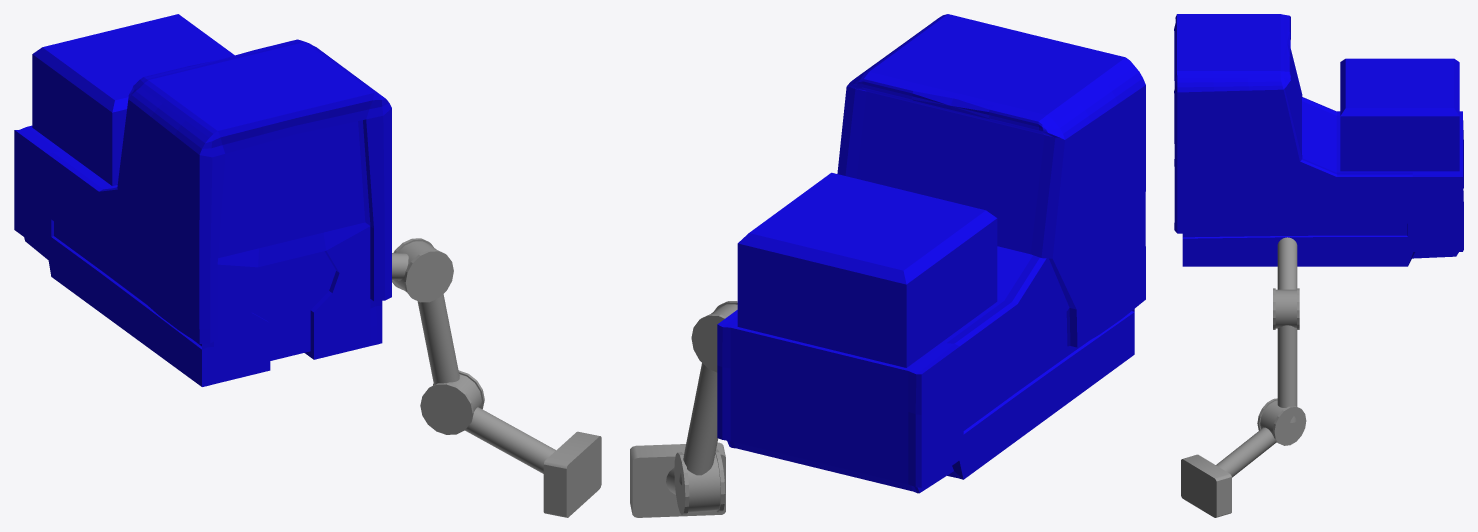
Rendered from Powerplant_Model_Prop_Camera_1.FBX.
The picture shows the model from 3 angles, left to right: view 1: azimuth 30°, elevation 25°; view 2: azimuth 150°, elevation 25°; view 3: azimuth 270°, elevation 25°; orthographic projection. The views are drawn at different scales.
Parts seen in each view (by area): view 1: Camera, Light, Top Joint001, Bottom Joint001, Top Arm005, Top Arm004; view 2: Camera, Light, Top Arm004, Top Joint001, Bottom Joint001; view 3: Camera, Light, Top Arm004, Top Joint001, Top Arm005, Top Arm003, Bottom Joint001.
Boxes of the visible parts, left/top/right/bottom form: Camera: left=14, top=14, right=391, bottom=386; Light: left=543, top=431, right=601, bottom=517; Top Joint001: left=420, top=370, right=484, bottom=434; Bottom Joint001: left=392, top=238, right=453, bottom=302; Top Arm005: left=465, top=407, right=555, bottom=473; Top Arm004: left=417, top=294, right=459, bottom=384; Camera: left=717, top=14, right=1145, bottom=493; Light: left=630, top=442, right=725, bottom=517; Top Arm004: left=679, top=363, right=718, bottom=484; Top Joint001: left=674, top=449, right=725, bottom=515; Bottom Joint001: left=691, top=301, right=737, bottom=372; Camera: left=1174, top=14, right=1463, bottom=266; Light: left=1181, top=454, right=1231, bottom=517; Top Arm004: left=1277, top=325, right=1297, bottom=422; Top Joint001: left=1257, top=398, right=1306, bottom=445; Top Arm005: left=1216, top=427, right=1276, bottom=477; Top Arm003: left=1277, top=237, right=1297, bottom=289; Bottom Joint001: left=1273, top=288, right=1299, bottom=329.
Size of the model in its own units: 27.16 by 28.85 by 21.31.
